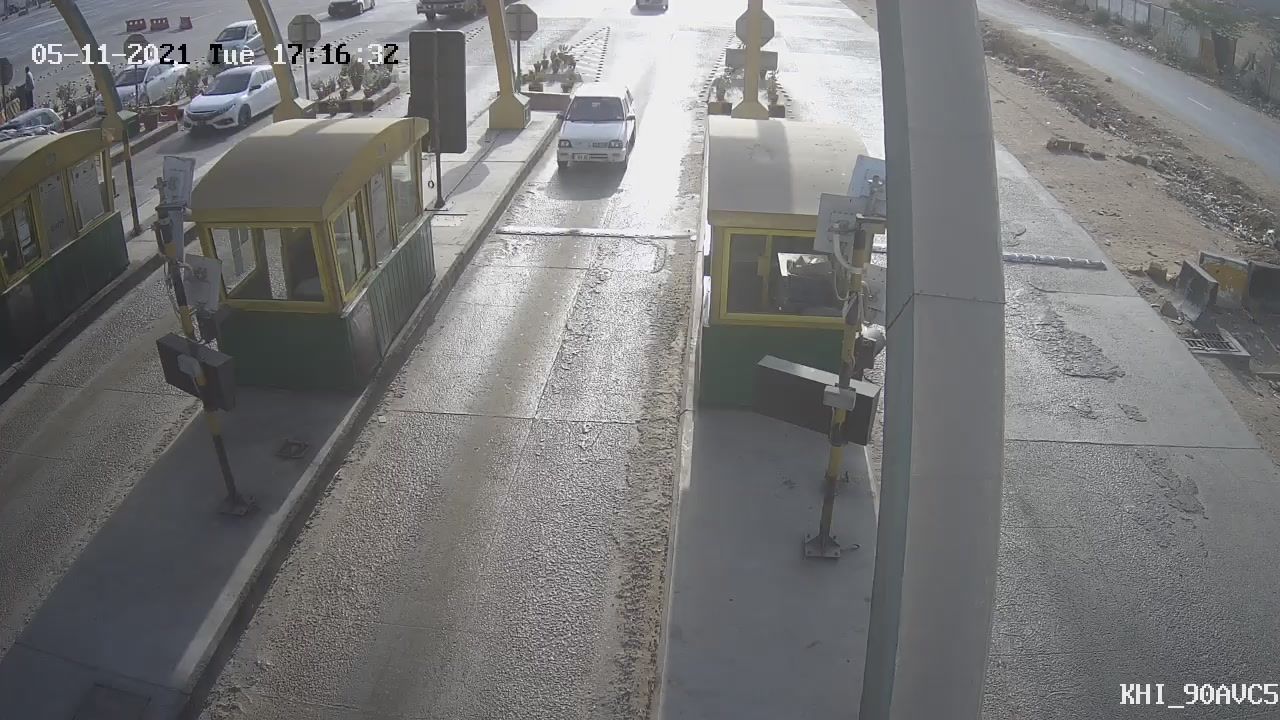F1: (527, 70, 655, 192)
